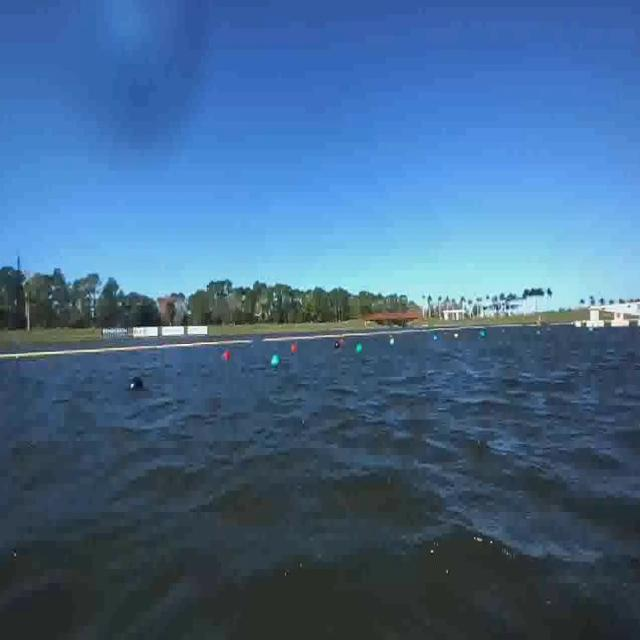black-buoy: (130, 372, 162, 418)
green-buoy: (273, 354, 281, 367), (356, 344, 363, 354)
red-buoy: (217, 345, 235, 369), (291, 345, 297, 354)
